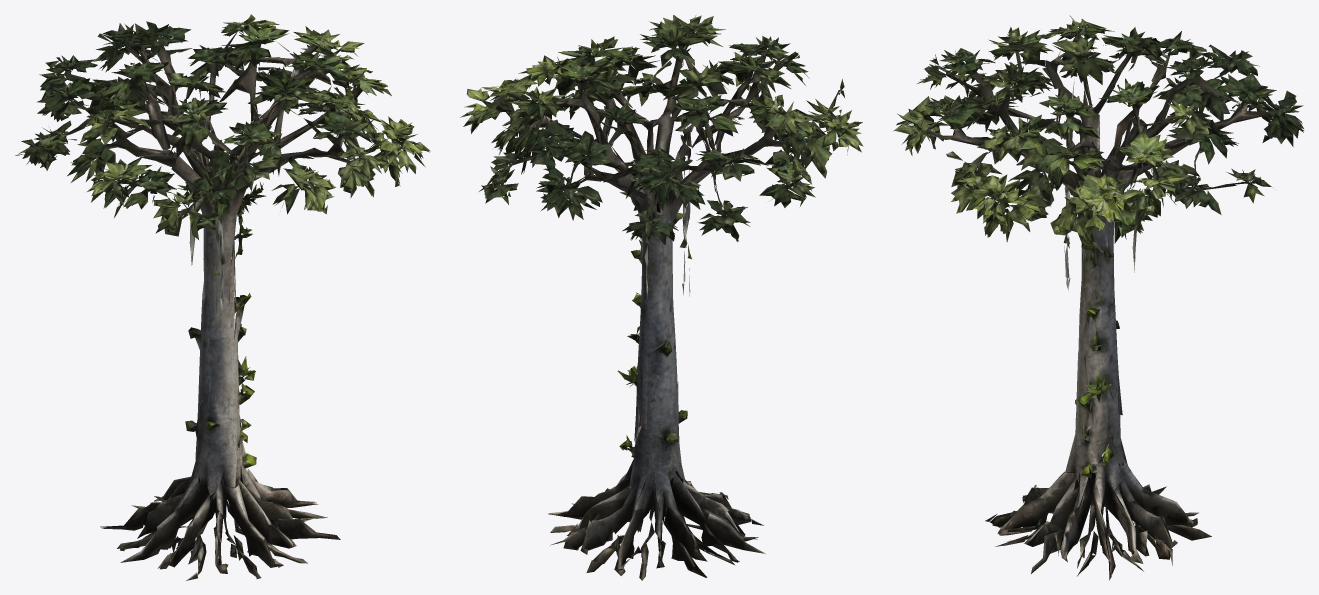
The model's file is jungle_tree_LOD1.fbx.
3 views of the same model, side by side, from view 1: azimuth 30°, elevation 25°; view 2: azimuth 150°, elevation 25°; view 3: azimuth 270°, elevation 25° (orthographic). The views are drawn at different scales.
Visible parts, largest first — view 1: jungle_tree.001; view 2: jungle_tree.001; view 3: jungle_tree.001.
Boxes of the visible parts, x1=… form: jungle_tree.001: x1=15, y1=14, x2=430, y2=580; jungle_tree.001: x1=460, y1=15, x2=863, y2=580; jungle_tree.001: x1=893, y1=15, x2=1304, y2=580.
Bounding box in the file's own units: 13.74 × 18.03 × 14.14.
Materials: 1 (1 with a texture image).
